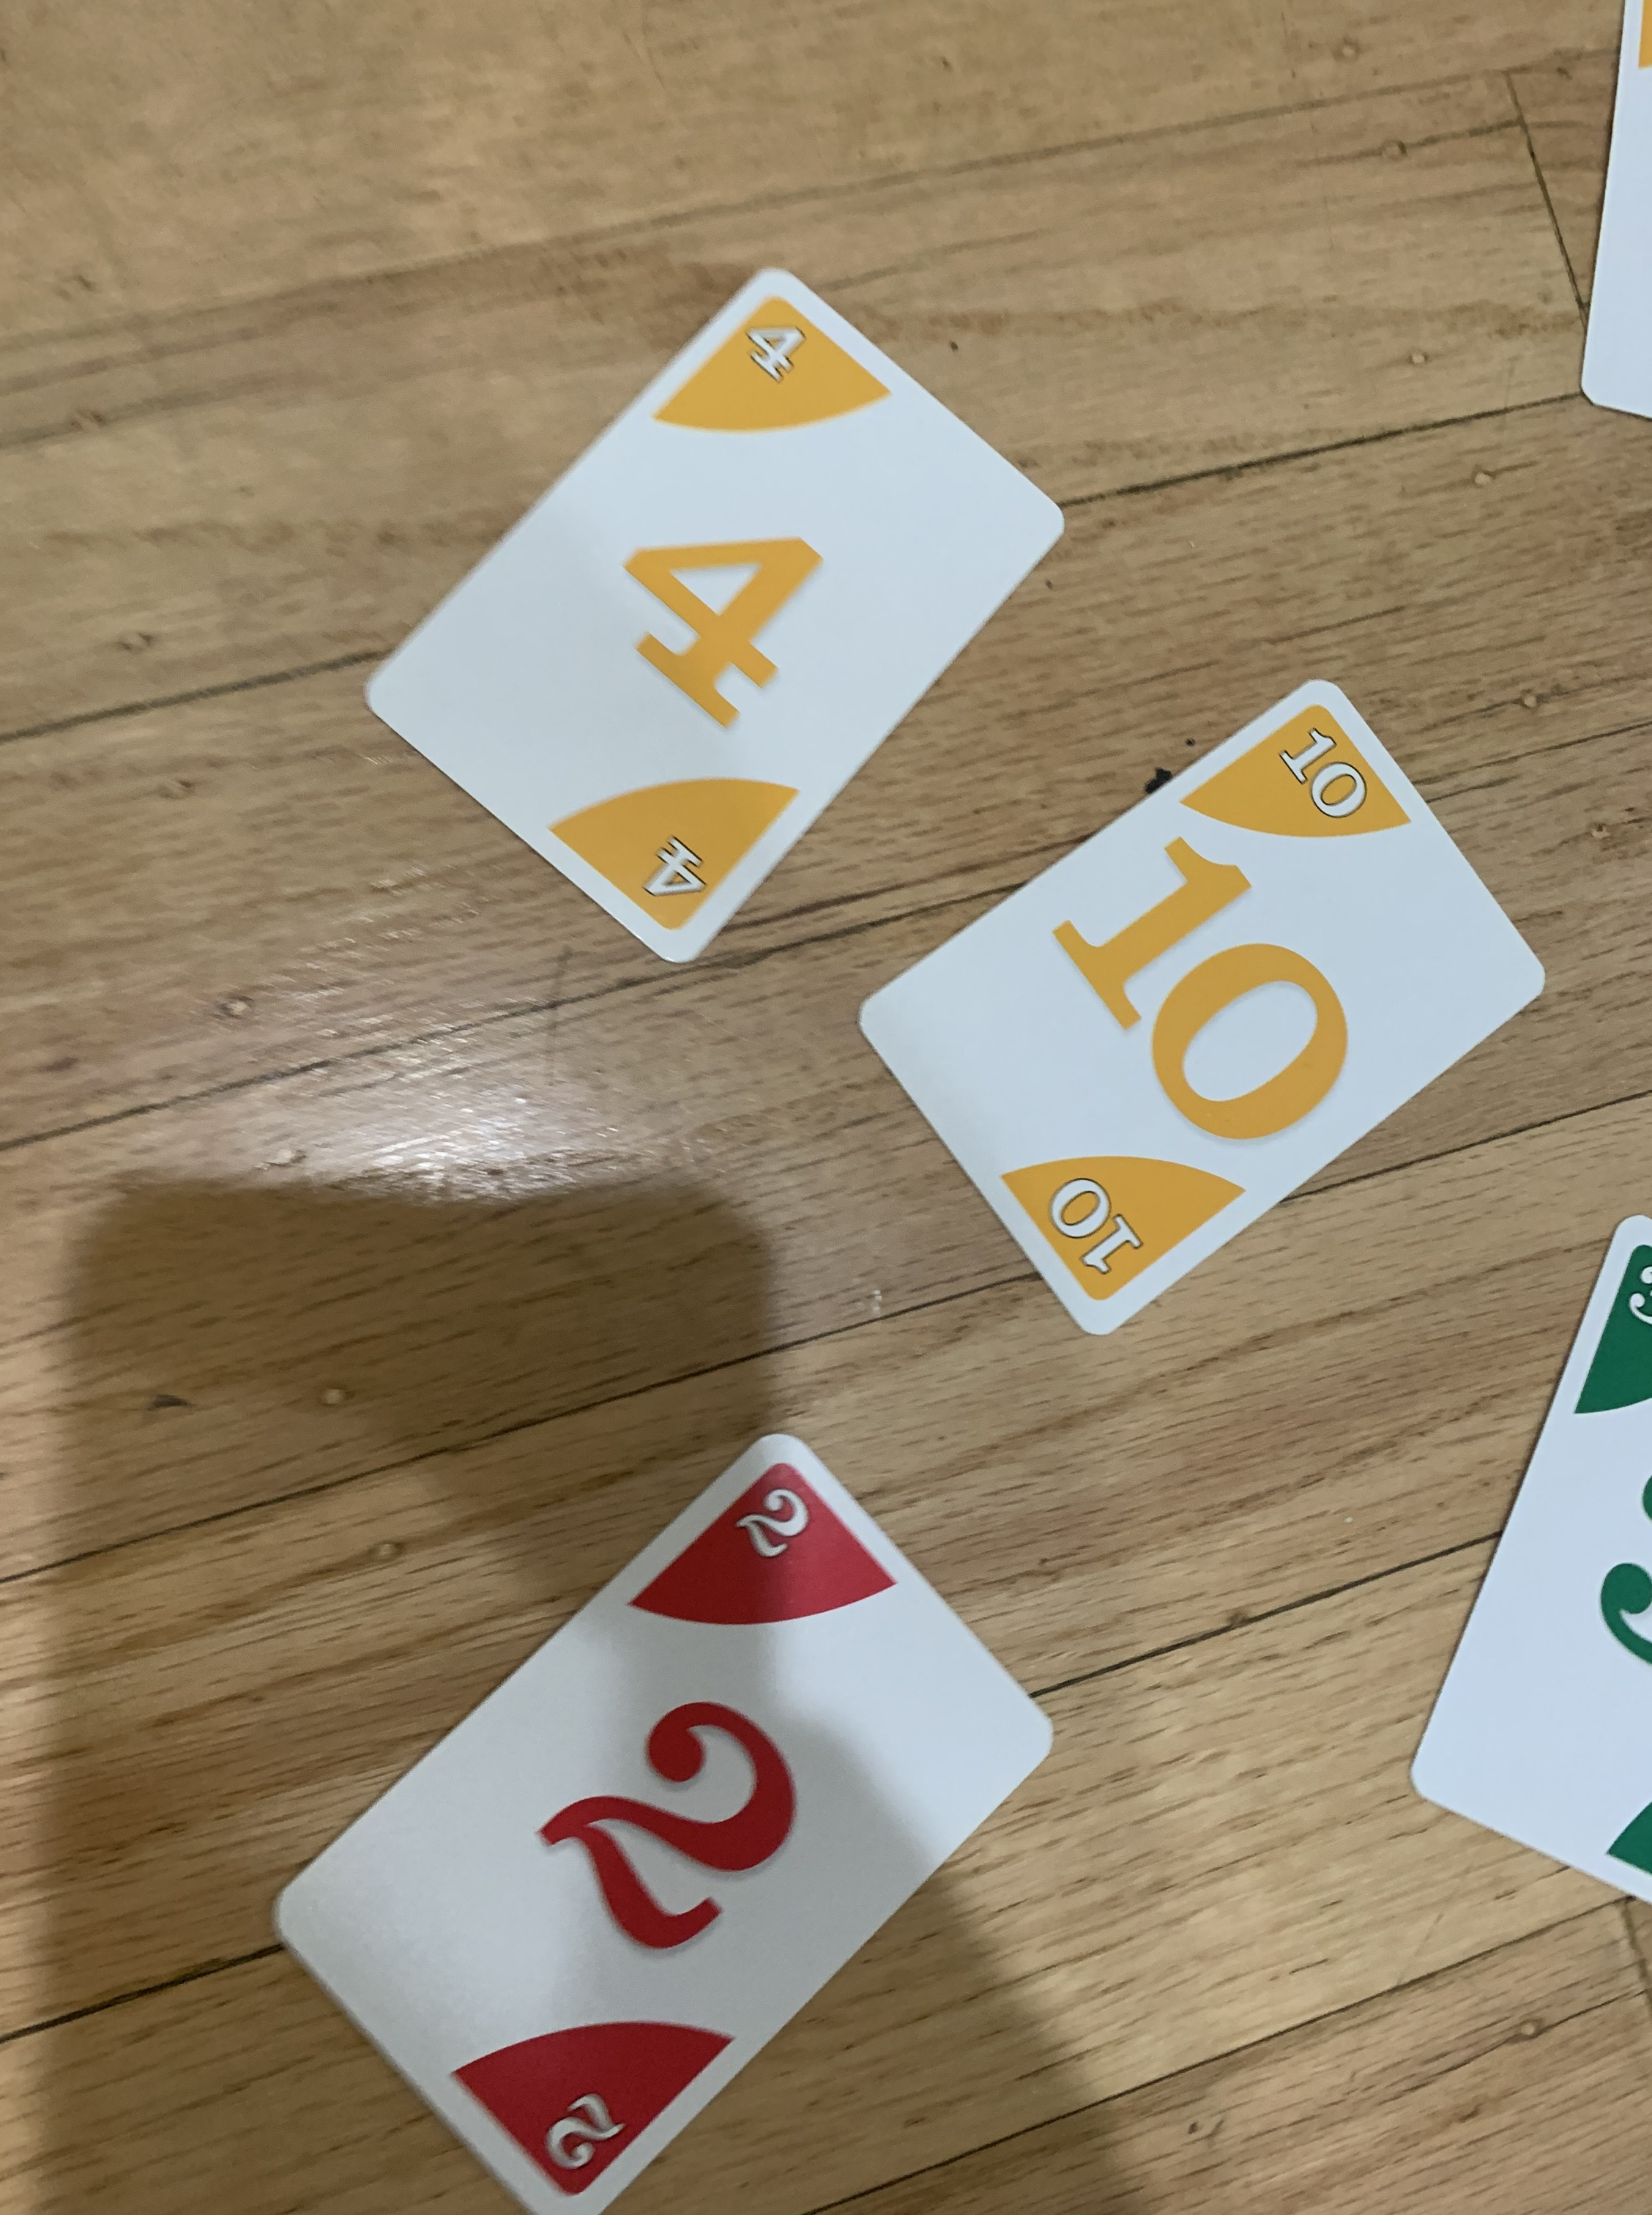four: (364, 255, 1072, 981)
ten: (855, 667, 1548, 1352)
two: (260, 1408, 1069, 2215)
